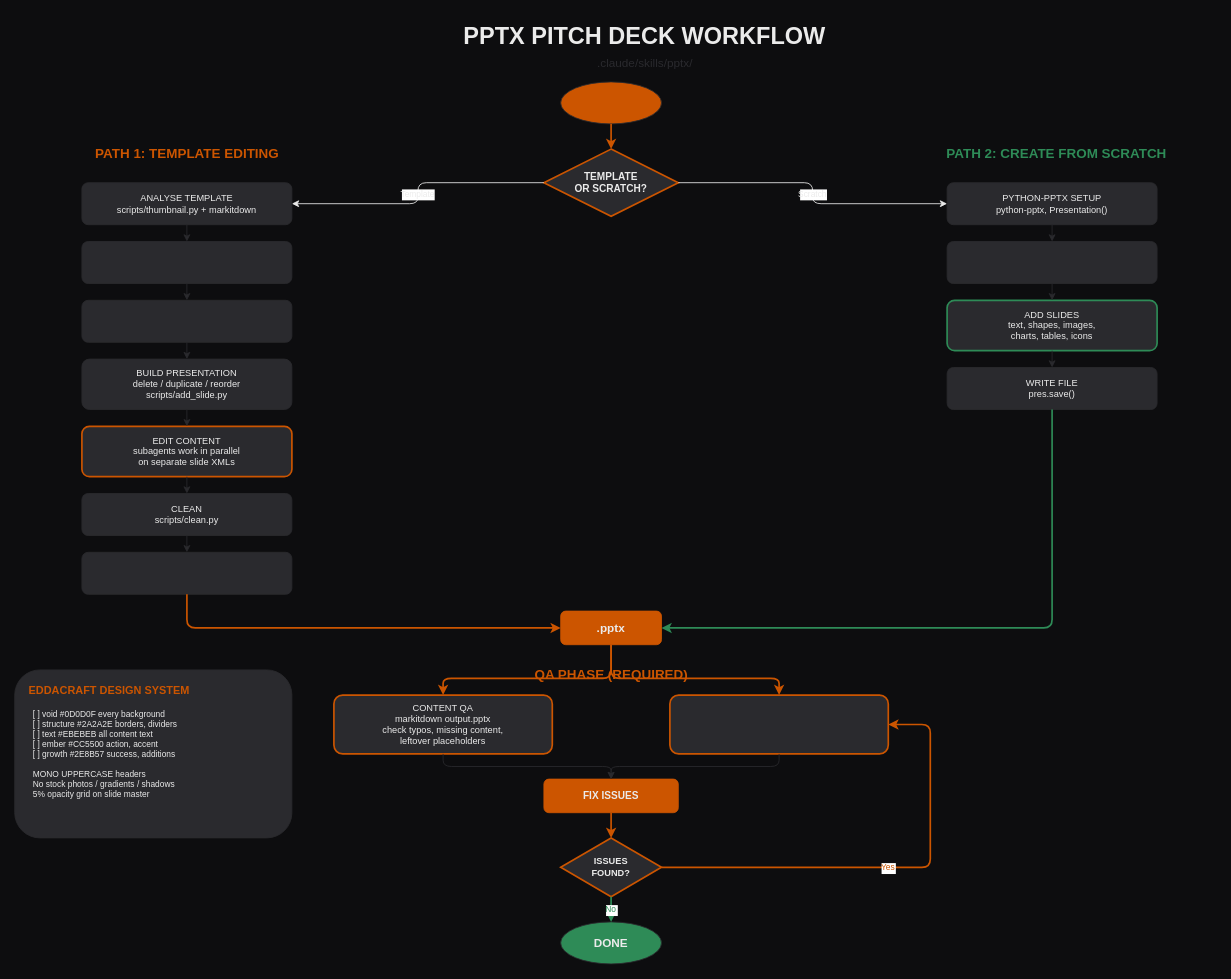
Image size: 1231x979. Some labels were removed from this diagram. Here are the shapes that lost their labels. From the top down, the box of each, then its label:
(560, 81, 662, 124): START
(81, 241, 292, 284): PLAN SLIDE MAPPING choose varied layouts
(946, 241, 1157, 284): DEFINE SLIDE MASTERS backgrounds, placeholders
(81, 299, 292, 342): UNPACK scripts/office/unpack.py
(81, 551, 292, 594): PACK scripts/office/pack.py
(669, 694, 889, 754): VISUAL QA soffice > PDF > pdftoppm > JPGs subagent visual inspection
